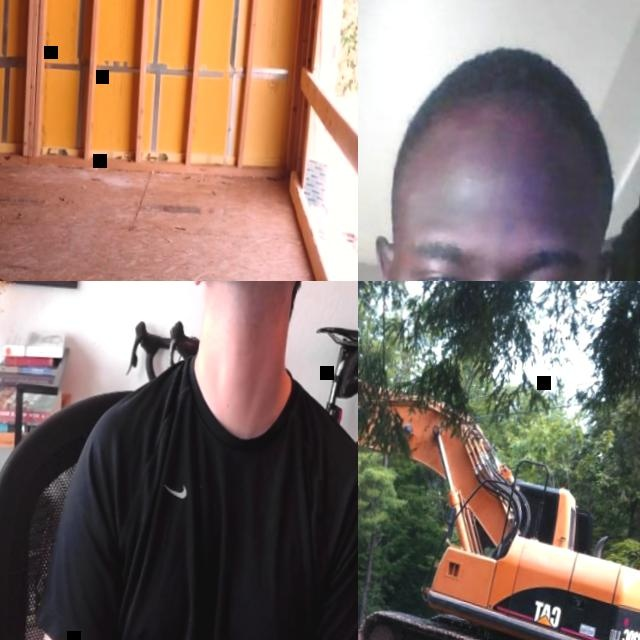NO-Hardhat: (388, 39, 625, 192)
NO-Safety Vest: (100, 362, 358, 640)
Person: (34, 281, 358, 640), (358, 25, 640, 281)
machinery: (358, 344, 640, 640)
